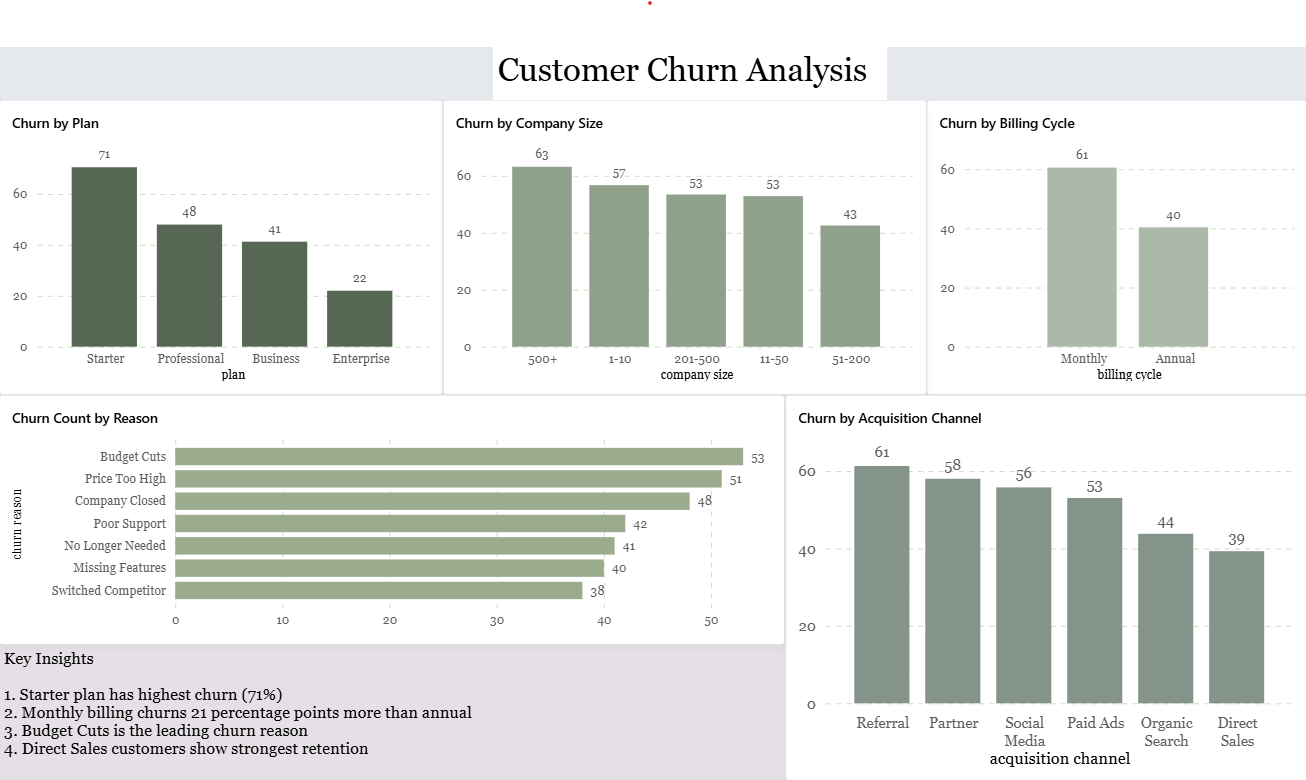

This screenshot's page, from the dashboard's own definition file:
{"tool":"powerbi","page":{"name":"Customer Churn Analysis","canvas":[1280,720],"ordinal":1},"visuals":[{"type":"clusteredColumnChart","title":"Churn by Plan","fields":{"Category":["rcanalysis vw_plan_churn.plan"],"Y":["Max(rcanalysis vw_plan_churn.plan_churn_rate)"]},"box":[0,52.6,434.1,288.6],"z":0},{"type":"clusteredColumnChart","title":"Churn by Billing Cycle","fields":{"Category":["rcanalysis vw_billing_cycle_churn.billing_cycle"],"Y":["Sum(rcanalysis vw_billing_cycle_churn.billing_cycle_churn_rate)"]},"box":[907.3,52.6,373,288.6],"z":1000},{"type":"clusteredColumnChart","title":"Churn by Company Size","fields":{"Category":["rcanalysis vw_company_size_churn.company_size"],"Y":["Sum(rcanalysis vw_company_size_churn.company_size_churn_rate)"]},"box":[434.1,52.6,473.2,288.6],"z":2000},{"type":"clusteredColumnChart","title":"Churn by Acquisition Channel","fields":{"Category":["rcanalysis vw_acquisition_channel_churn.acquisition_channel"],"Y":["Sum(rcanalysis vw_acquisition_channel_churn.acquisition_channel_churn_rate)"]},"box":[769.2,341.2,511.1,377.9],"z":3000},{"type":"clusteredBarChart","title":"Churn Count by Reason","fields":{"Category":["rcanalysis vw_churn_reason.churn_reason"],"Y":["Sum(rcanalysis vw_churn_reason.churn_count)"]},"box":[0,341.2,769.2,244.6],"z":4000},{"type":"textbox","title":"Key Insights","box":[0,585.7,769.2,134.5],"z":5000},{"type":"textbox","box":[483.6,0,386,52.4],"z":6000}]}

Visuals, with their boxes on the page's 1280x720 design canvas (x1, y1, x2, y2). These are canvas units, not pixel positions in the 1306x780 screenshot, which may show the page scaled, cropped or inside an application window:
"Churn by Plan" clusteredColumnChart: (0, 53, 434, 341)
"Churn by Billing Cycle" clusteredColumnChart: (907, 53, 1280, 341)
"Churn by Company Size" clusteredColumnChart: (434, 53, 907, 341)
"Churn by Acquisition Channel" clusteredColumnChart: (769, 341, 1280, 719)
"Churn Count by Reason" clusteredBarChart: (0, 341, 769, 586)
"Key Insights" textbox: (0, 586, 769, 720)
textbox: (484, 0, 870, 52)
